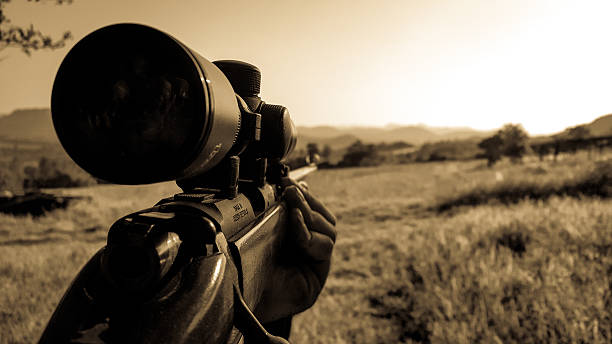rifle: (29, 16, 335, 344)
